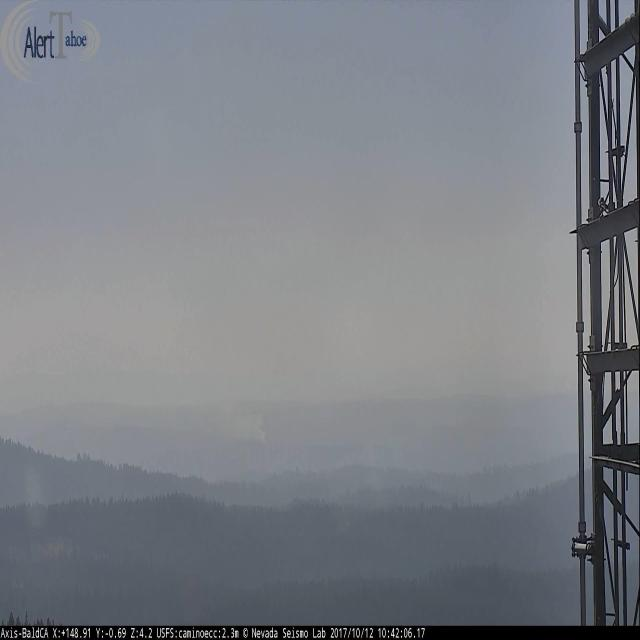smoke: (232, 405, 270, 447)
